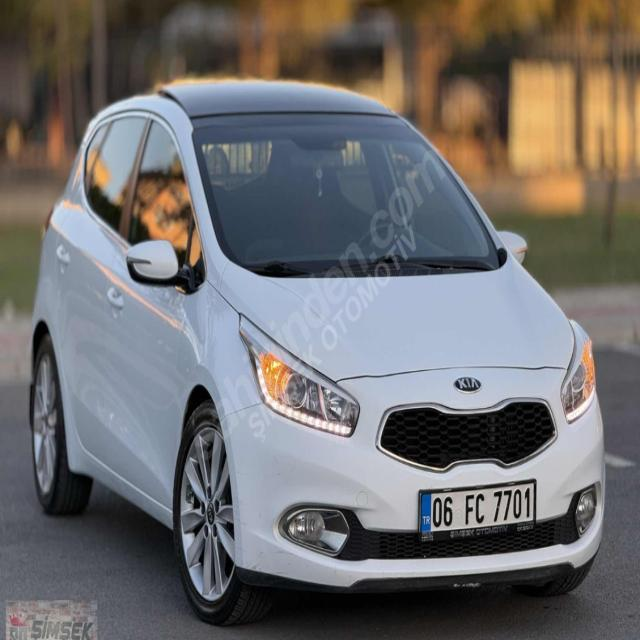kia: (452, 369, 483, 399)
